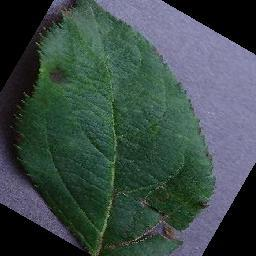apple healthy: (11, 0, 217, 255)
